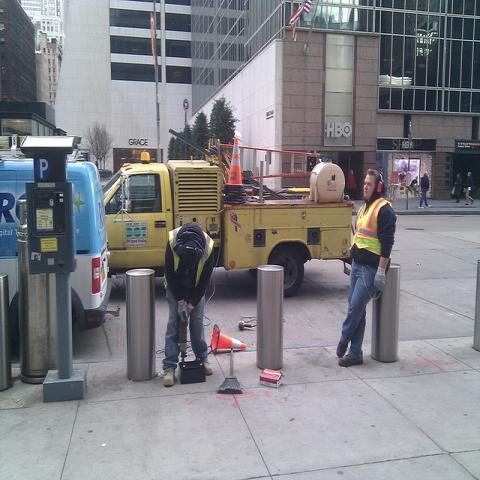truck: (102, 160, 350, 294)
